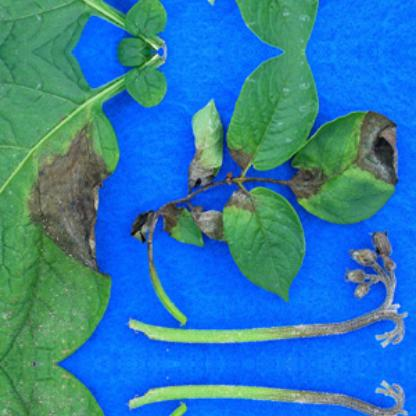Late-Blight: (17, 56, 126, 348), (275, 119, 415, 233), (210, 182, 300, 310), (230, 64, 310, 170), (230, 0, 310, 40)
